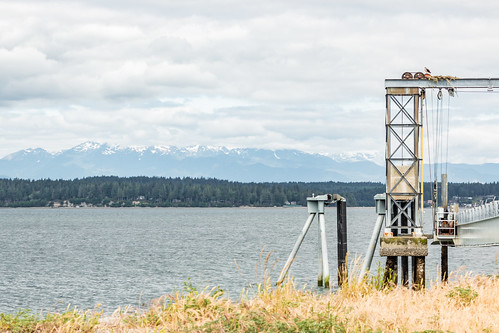mountain: (7, 131, 386, 175)
river: (3, 207, 400, 309)
sky: (5, 1, 499, 139)
vegetation: (4, 179, 478, 207)
